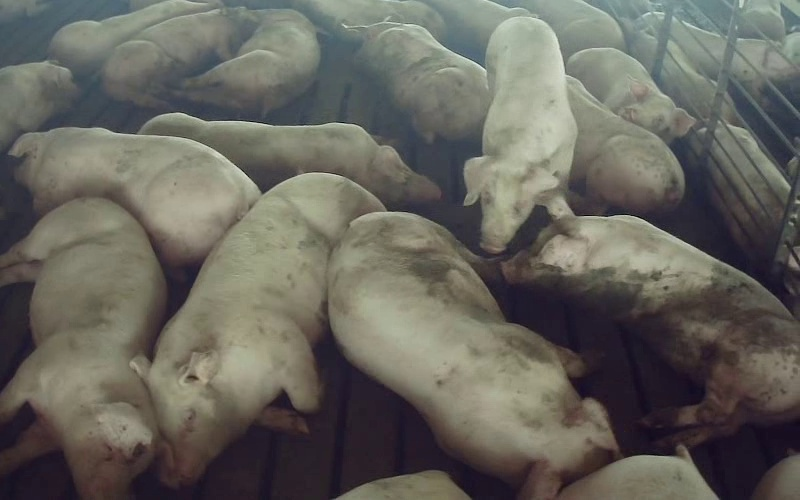pig: (328, 212, 618, 499), (132, 173, 383, 486), (503, 195, 799, 445), (0, 198, 165, 499), (9, 127, 259, 266), (140, 113, 440, 203), (464, 17, 576, 253), (343, 22, 489, 142), (567, 76, 684, 214), (102, 9, 255, 107), (182, 9, 319, 116), (566, 49, 695, 143), (0, 61, 80, 152)
